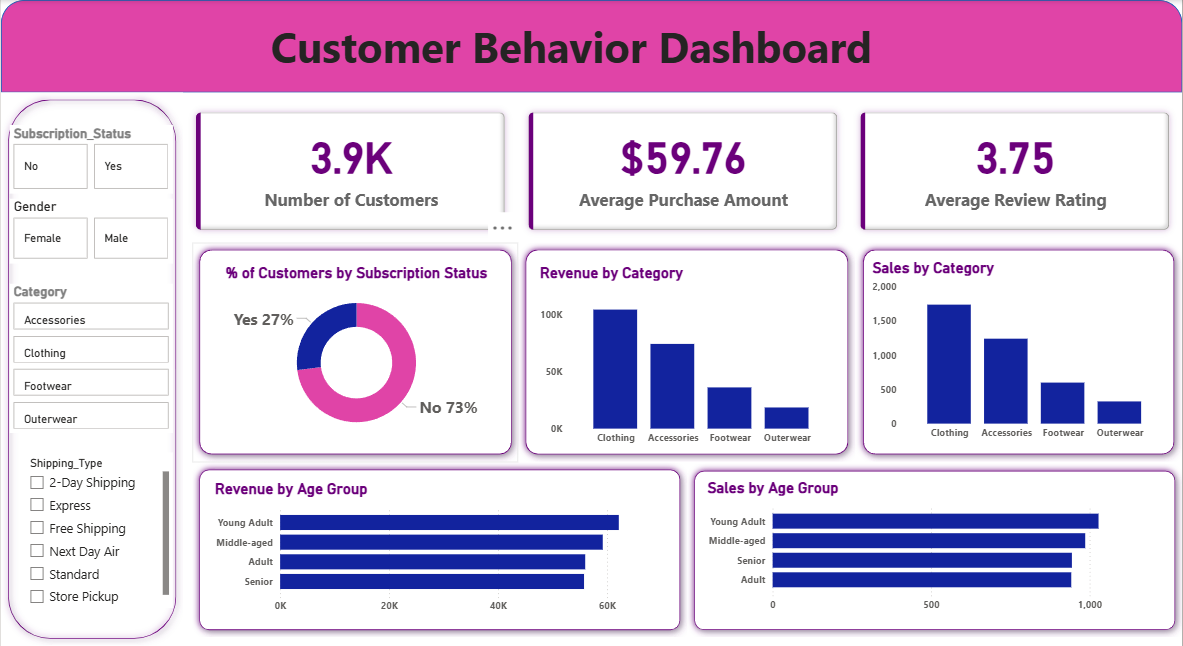

The dashboard page shown, as its layout file describes it:
{"tool":"powerbi","page":{"name":"Page 1","canvas":[1500,820],"ordinal":0},"visuals":[{"type":"cardVisual","fields":{"Data":["public customer.Number of Customers","public customer.Average Purchase Amount","public customer.Average Review Rating"]},"box":[231.6,127,1268.8,181.7],"z":0},{"type":"shape","box":[0,0,1500.3,117.4],"z":1000},{"type":"textbox","box":[0,17.7,1448.9,99.7],"z":2000},{"type":"shape","box":[242.8,308.7,414.9,278.2],"z":3000},{"type":"donutChart","title":"% of Customers by Subscription Status","fields":{"Category":["public customer.subscription_status"],"Y":["CountNonNull(public customer.customer_id)"]},"box":[266.9,334.5,369.9,230],"z":4000},{"type":"shape","box":[1086.7,308.7,413.3,278.2],"z":5000},{"type":"shape","box":[657.7,308.7,427.7,278.2],"z":6000},{"type":"columnChart","title":"Revenue by Category","fields":{"Category":["public customer.category"],"Y":["Sum(public customer.purchase_amount)"]},"box":[680.2,334.5,382.7,239.6],"z":7000},{"type":"columnChart","title":"Sales by Category","fields":{"Category":["public customer.category"],"Y":["Count(public customer.customer_id)"]},"box":[1101.5,328,382.7,239.6],"z":8000},{"type":"shape","box":[0,117.4,231.6,702.7],"z":9000},{"type":"advancedSlicerVisual","fields":{"Values":["public customer.subscription_status"]},"box":[11.3,159.2,207.4,86.8],"z":10000},{"type":"advancedSlicerVisual","fields":{"Values":["public customer.gender"]},"box":[11.3,252.5,207.4,82],"z":11000},{"type":"advancedSlicerVisual","fields":{"Values":["public customer.category"]},"box":[11.3,360.2,207.4,189.8],"z":12000},{"type":"slicer","fields":{"Values":["public customer.shipping_type"]},"box":[24.1,574.1,194.6,197.8],"z":13000},{"type":"shape","box":[242.8,586.9,628.8,221.9],"z":14000},{"type":"clusteredBarChart","title":"Revenue by Age Group","fields":{"Y":["Sum(public customer.purchase_amount)"],"Category":["public customer.age_group"]},"box":[266.9,609.5,588.6,178.5],"z":15000},{"type":"shape","box":[871.6,588.6,628.8,220.3],"z":16000},{"type":"clusteredBarChart","title":"Sales by Age Group","fields":{"Category":["public customer.age_group"],"Y":["Count(public customer.customer_id)"]},"box":[892.3,608.1,592.2,177.8],"z":17000}]}

Visuals, with their boxes in screenshot pixels (x1, y1, x2, y2), scaled from the page's 1500x820 canvas onto the 1183x646 screenshot:
cardVisual - public customer.Number of Customers x public customer.Average Purchase Amount: 183 100 1182 243
shape: 0 0 1182 92
textbox: 0 14 1143 92
shape: 191 243 519 462
"% of Customers by Subscription Status" donutChart: 210 264 502 445
shape: 857 243 1182 462
shape: 519 243 856 462
"Revenue by Category" columnChart: 536 264 838 452
"Sales by Category" columnChart: 869 258 1171 447
shape: 0 92 183 645
advancedSlicerVisual - public customer.subscription_status: 9 125 172 194
advancedSlicerVisual - public customer.gender: 9 199 172 264
advancedSlicerVisual - public customer.category: 9 284 172 433
slicer - public customer.shipping_type: 19 452 172 608
shape: 191 462 687 637
"Revenue by Age Group" clusteredBarChart: 210 480 675 621
shape: 687 464 1182 637
"Sales by Age Group" clusteredBarChart: 704 479 1171 619
